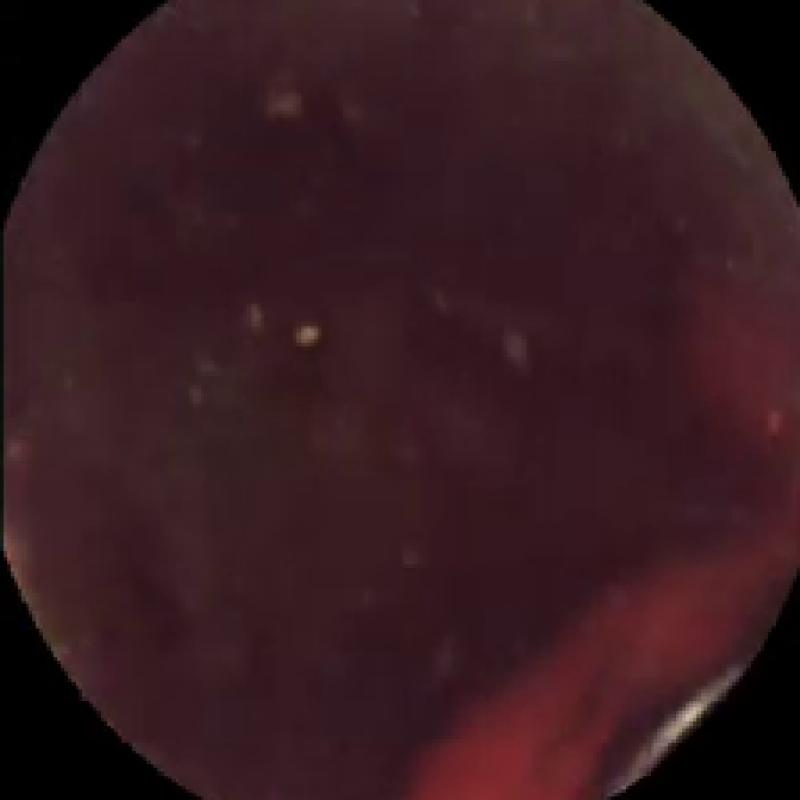bleeding: (418, 307, 796, 800)
